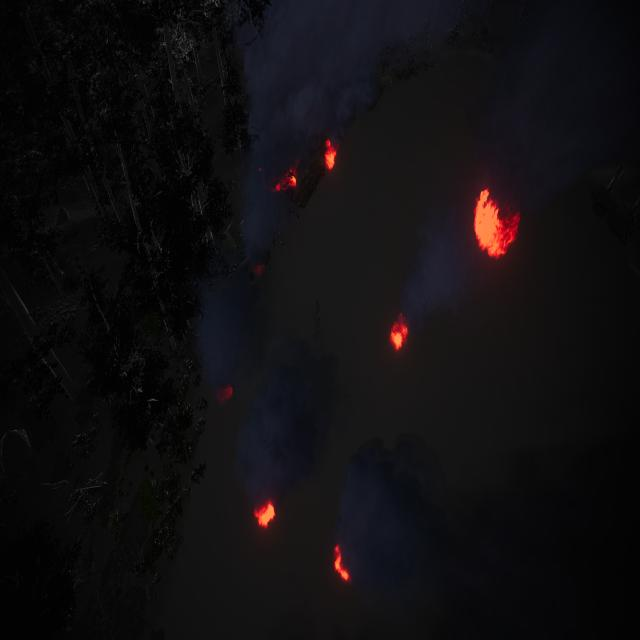Human: (303, 290, 330, 350)
